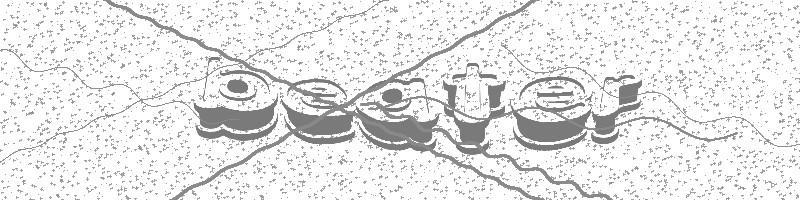a: (356, 76, 440, 152)
b: (192, 55, 281, 142)
e: (509, 75, 591, 150), (281, 78, 356, 145)
r: (592, 74, 643, 145)
t: (440, 63, 506, 154)
